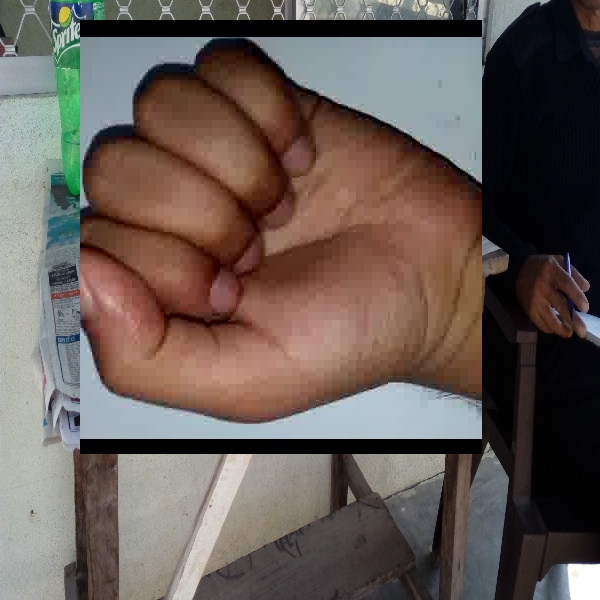A: (80, 20, 482, 454)
